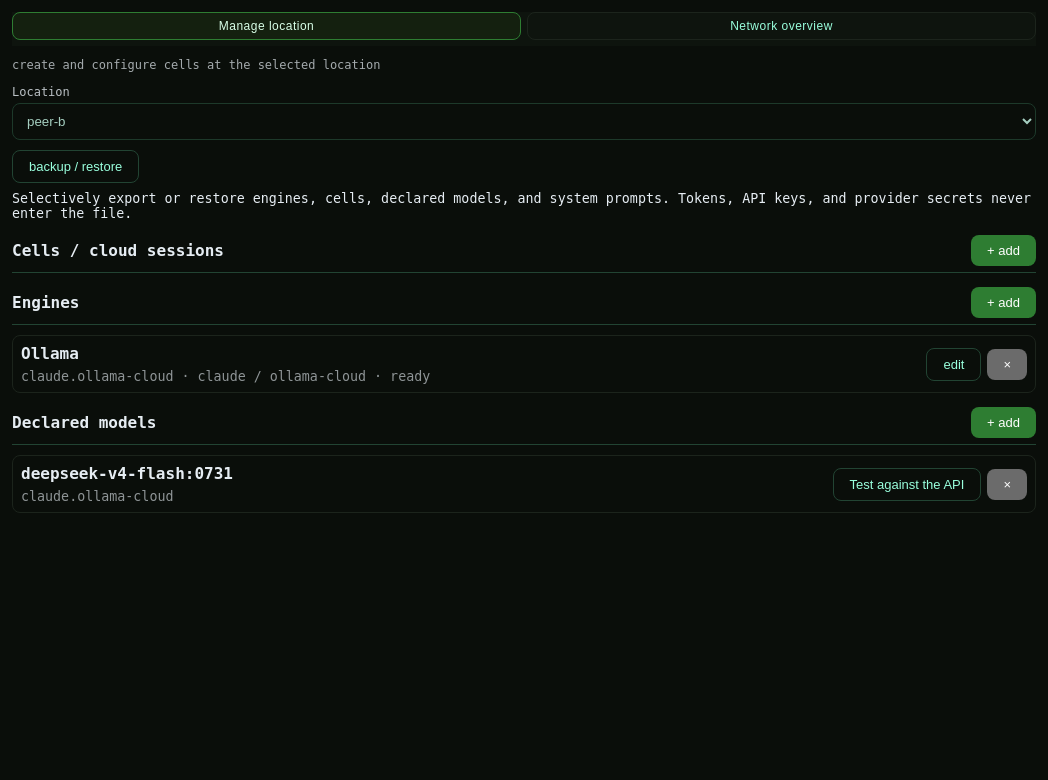
it: sezione modelli su un nodo remoto › prova il modello sul nodo guardato, non sul proprio
The width and height of the screenshot is (1048, 780).
Check: the text "Declared models" is shown, box [12,413,156,432]
Check: the element with class "nc-fleet-section-head" showing "Declared models + add" is shown, box [12,407,1036,445]
Click the button "Test against the API". click: (907, 484)
box: [832,468,981,501]
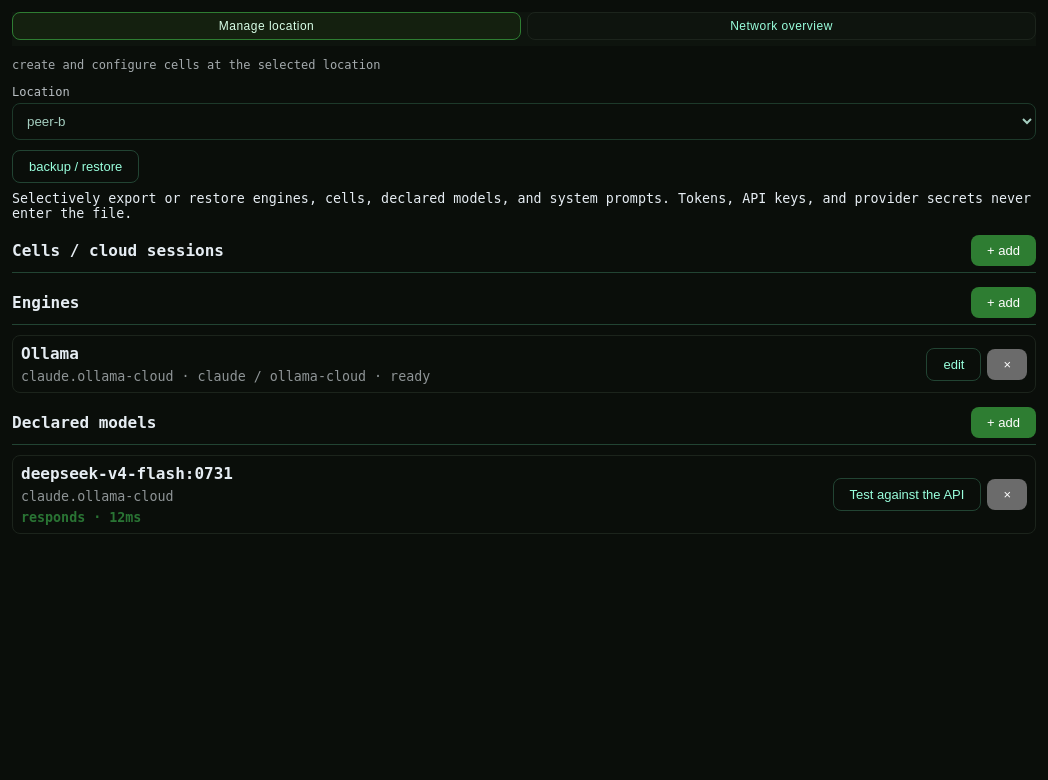
Check: the element with class "nc-fleet-section-head" showing "Declared models + add" is shown, box [12,407,1036,445]
Check: the text "responds · 12ms" is shown, box [21,510,141,525]
